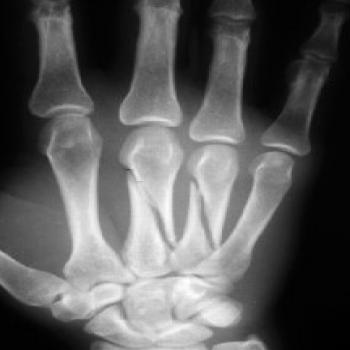Fracture: (118, 160, 180, 254), (186, 161, 227, 252)
